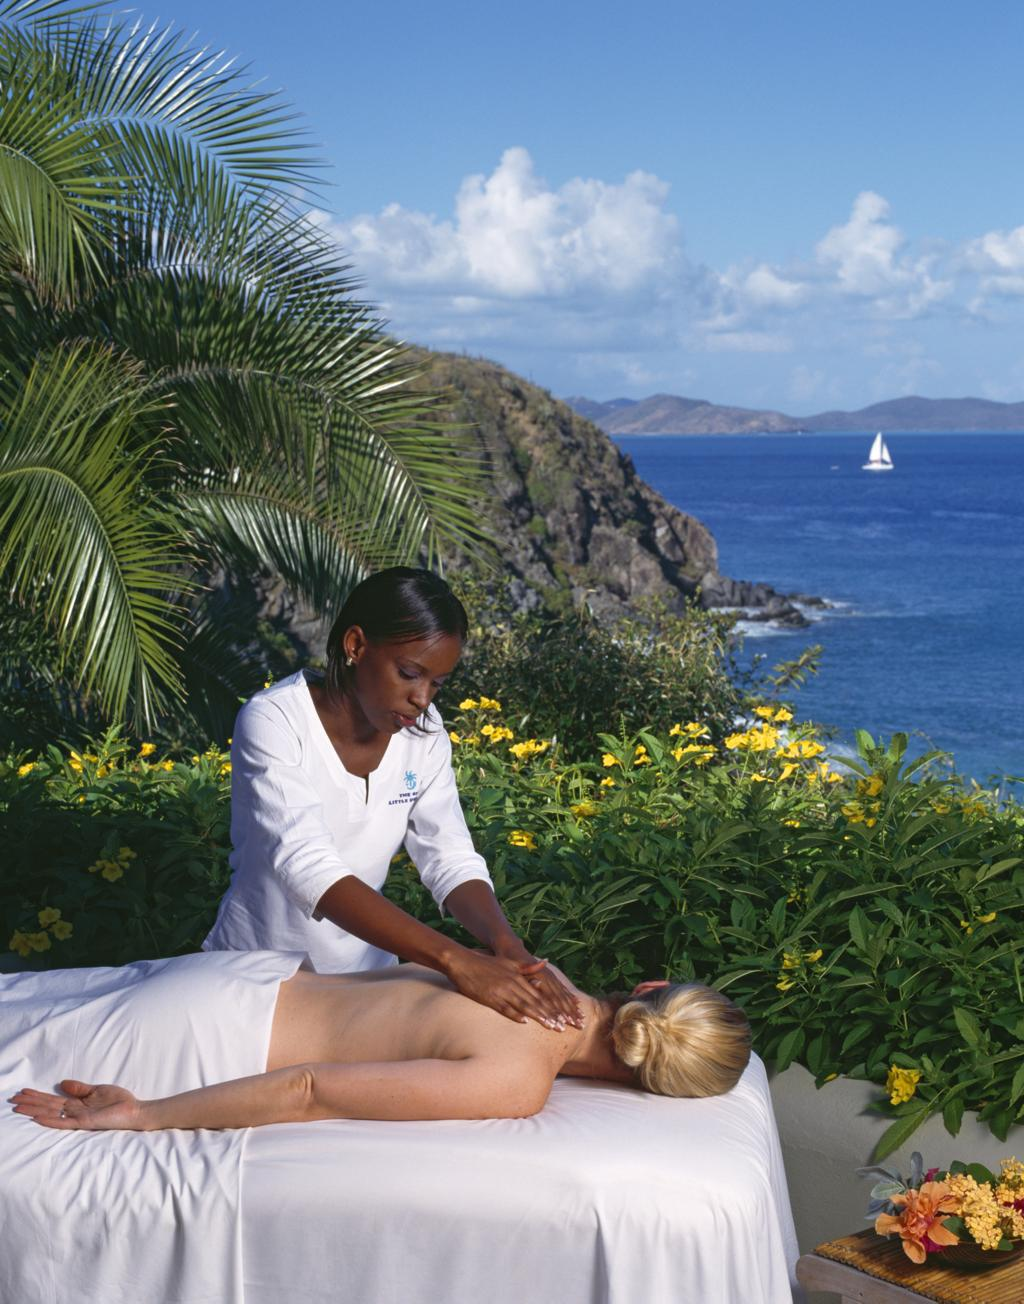face: (365, 645, 454, 734)
